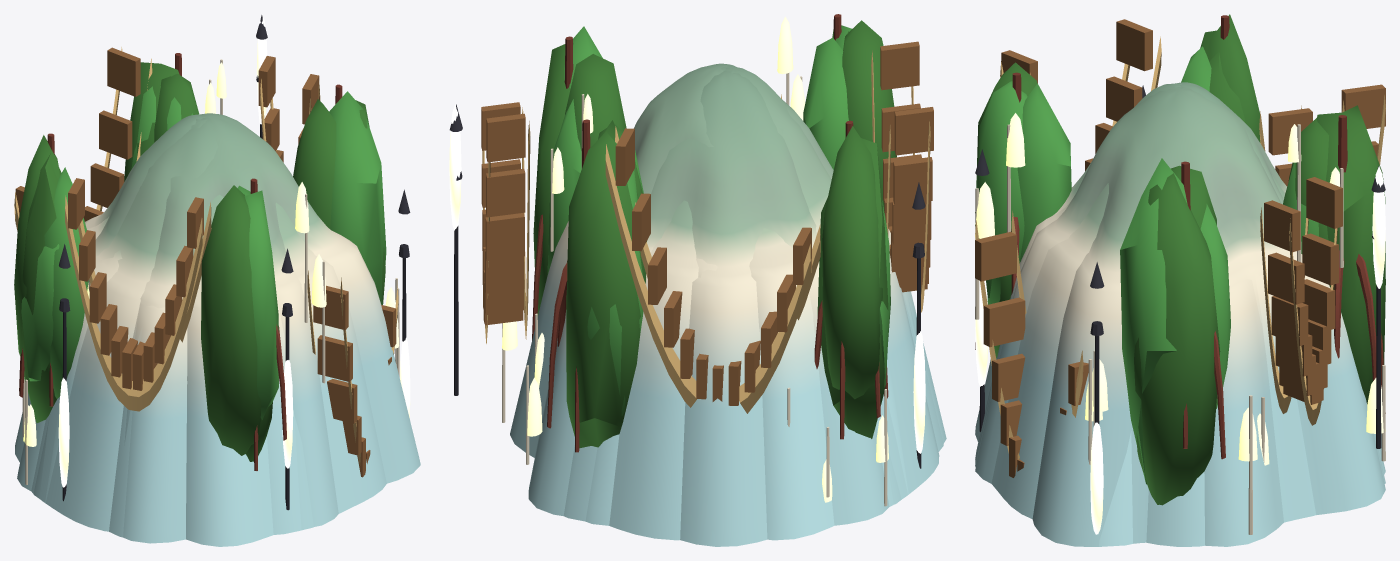
Rendered from ile-lucioles.glb.
The picture shows the model from 3 angles, left to right: view 1: azimuth 30°, elevation 25°; view 2: azimuth 150°, elevation 25°; view 3: azimuth 270°, elevation 25°; orthographic projection. The views are drawn at different scales.
Visible parts, largest first — view 1: lucioles_decor, lucioles_terrain2, lucioles_terrain3, lucioles_terrain1, lucioles_terrain0; view 2: lucioles_decor, lucioles_terrain1, lucioles_terrain2, lucioles_terrain0, lucioles_terrain3; view 3: lucioles_decor, lucioles_terrain3, lucioles_terrain2, lucioles_terrain1, lucioles_terrain0.
Part boxes in pixels (x1=…): lucioles_decor: x1=14, y1=14, x2=410, y2=510; lucioles_terrain2: x1=31, y1=117, x2=386, y2=534; lucioles_terrain3: x1=33, y1=113, x2=420, y2=537; lucioles_terrain1: x1=17, y1=114, x2=313, y2=543; lucioles_terrain0: x1=15, y1=118, x2=273, y2=546; lucioles_decor: x1=449, y1=14, x2=933, y2=506; lucioles_terrain1: x1=510, y1=71, x2=946, y2=546; lucioles_terrain2: x1=609, y1=65, x2=939, y2=540; lucioles_terrain0: x1=585, y1=68, x2=908, y2=540; lucioles_terrain3: x1=528, y1=63, x2=943, y2=515; lucioles_decor: x1=975, y1=14, x2=1385, y2=534; lucioles_terrain3: x1=975, y1=87, x2=1385, y2=546; lucioles_terrain2: x1=975, y1=84, x2=1381, y2=546; lucioles_terrain1: x1=975, y1=82, x2=1385, y2=546; lucioles_terrain0: x1=975, y1=83, x2=1385, y2=546.
Bounding box in the file's own units: 2 × 2 × 2.
